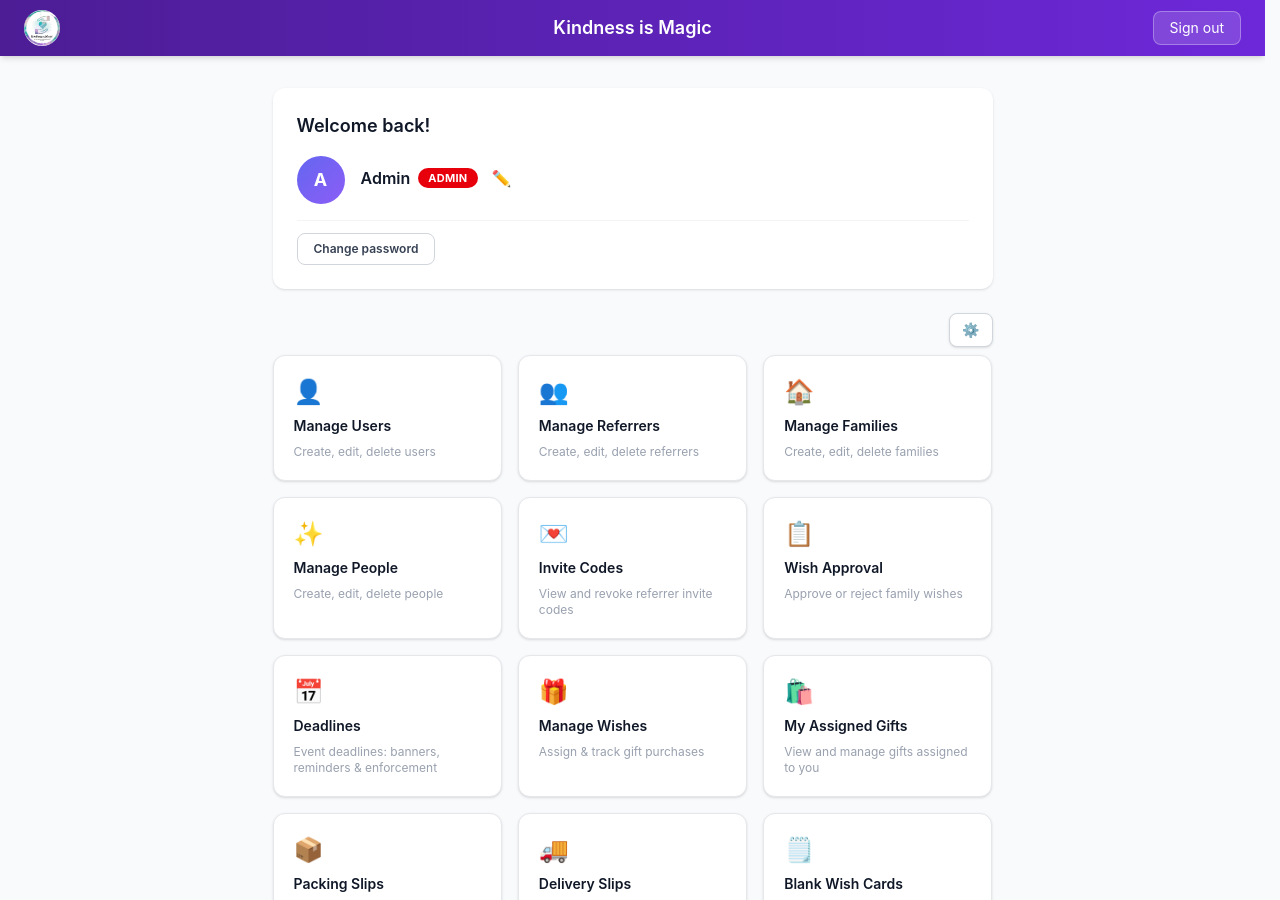
Test case: Dashboard — profile card › changes the password and collapses the form on success
Click the button "Change password": (366, 249) [296,233,435,265]
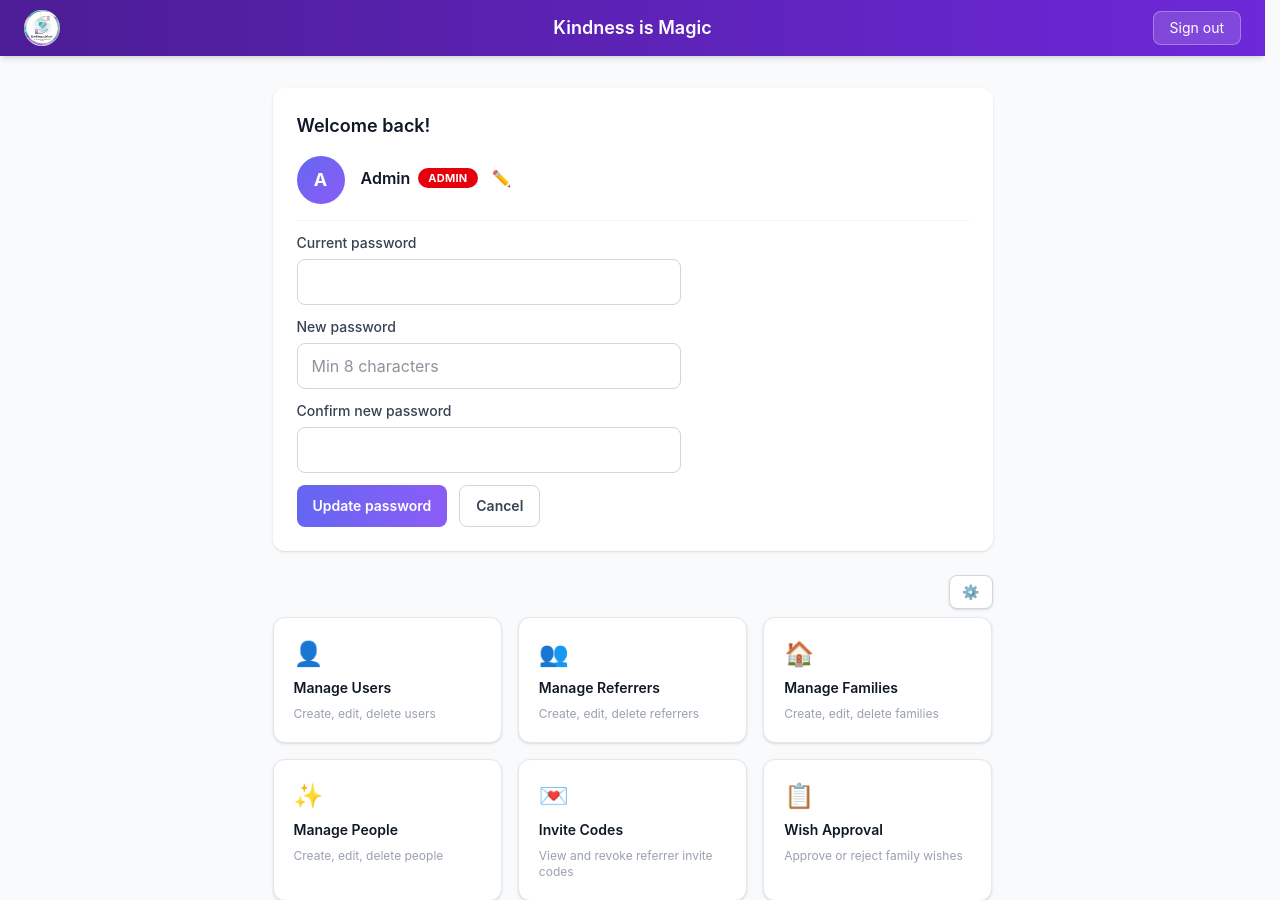
In the password field labelled "Current password": (488, 282) [296,259,680,305], type "oldpass1"
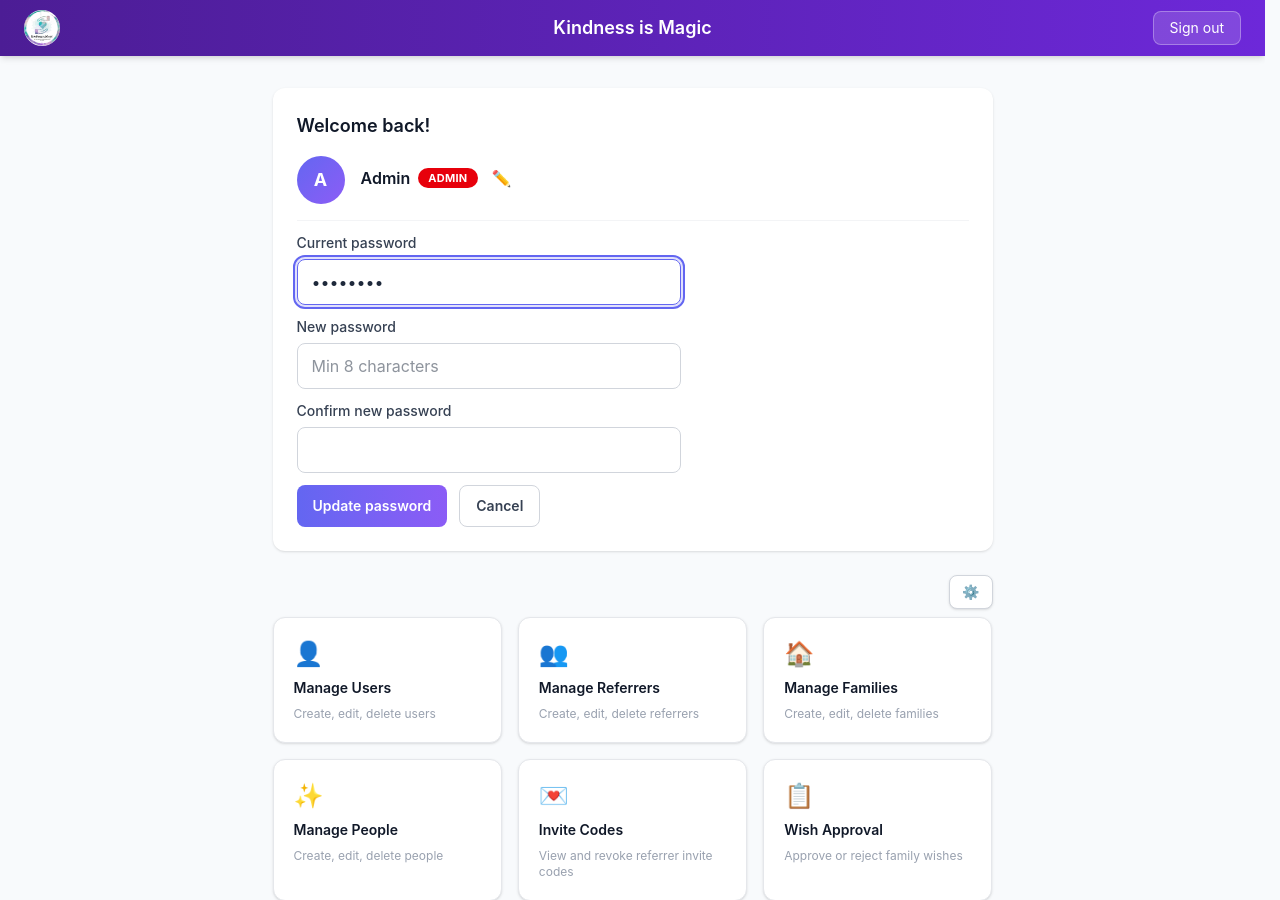
In the password field labelled "New password": (488, 366) [296,343,680,389], type "newpass123"
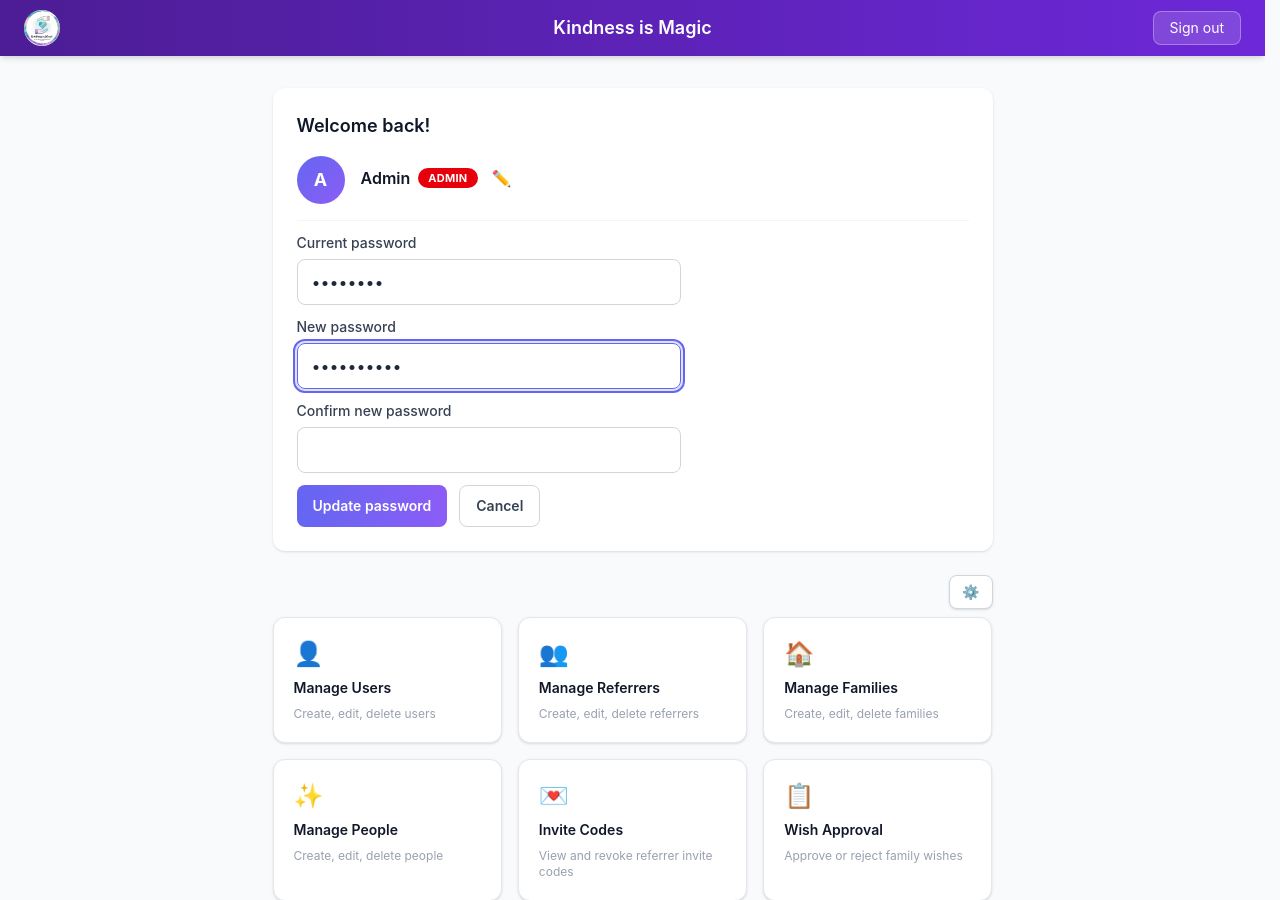
In the password field labelled "Confirm new password": (488, 450) [296,427,680,473], type "newpass123"
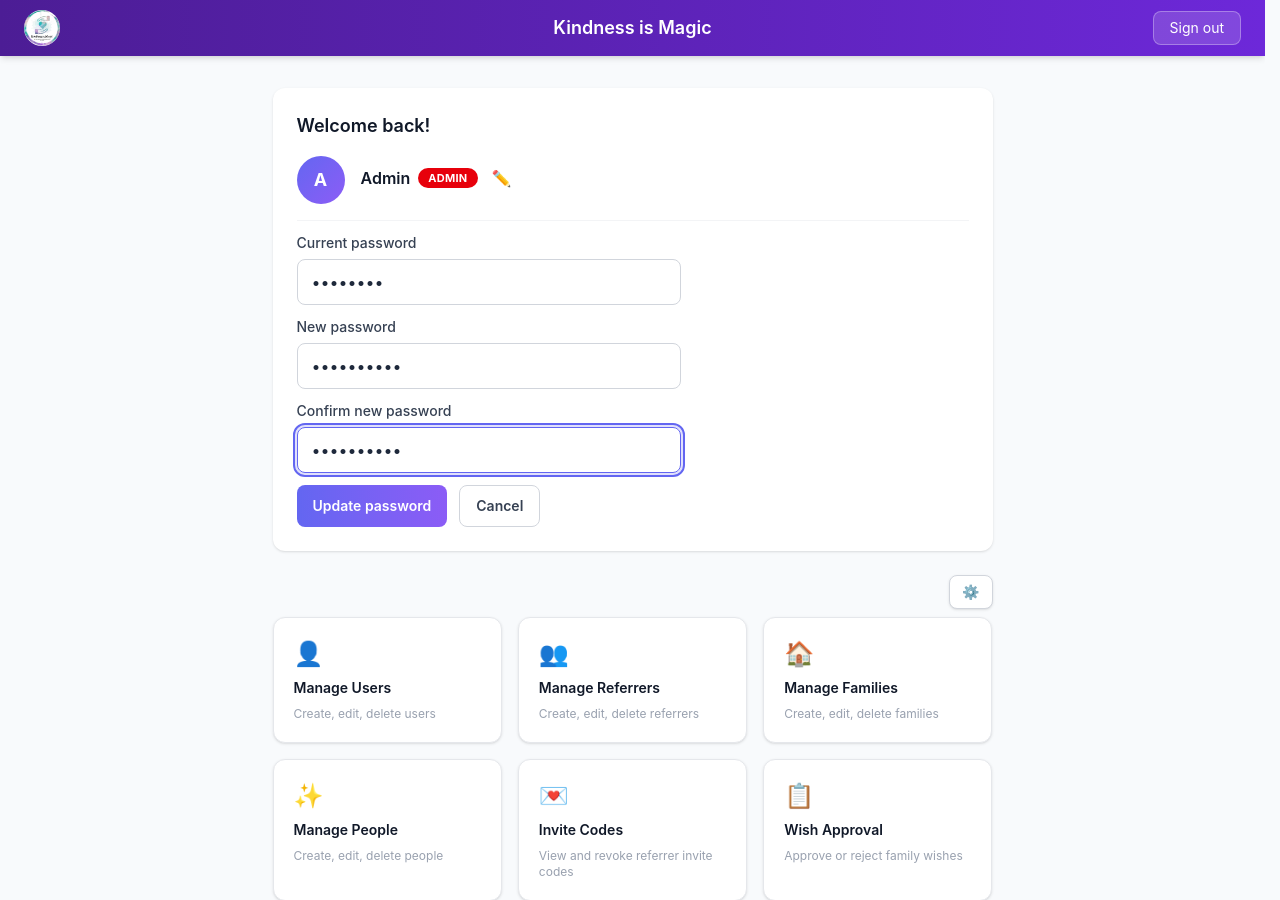
Click the button "Update password": (372, 506) [296,485,447,527]
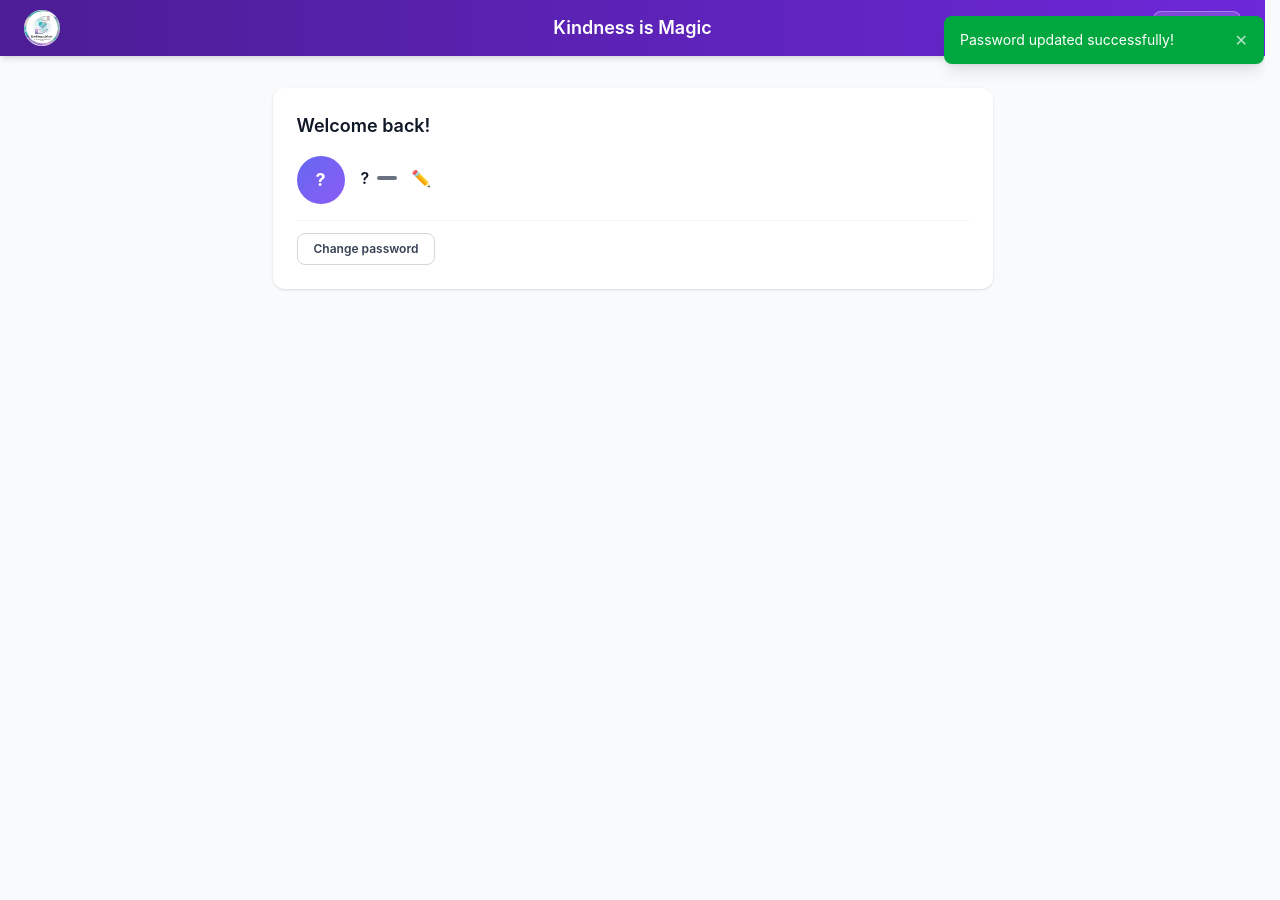
Expected: the text "Password updated successfully!" is shown, [960,31,1174,48]
Expected: the label labelled "Current password" is gone
